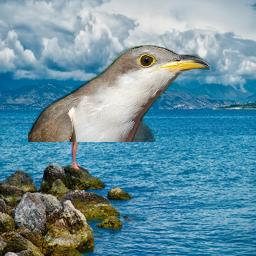Cuckoo: (28, 45, 210, 142)
